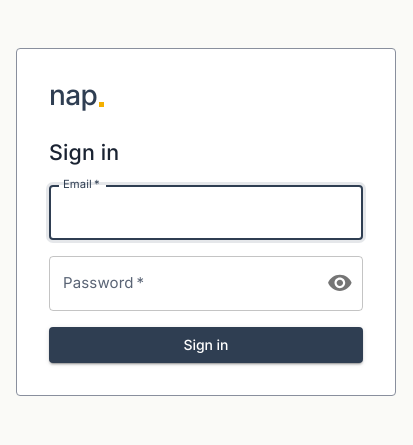
LoginPage › shows one generic message for a rejected login
Expected: the heading "Sign in" is shown, [49,139,119,165]
In the field labelled "Email *": [206, 213] box [49,185,363,240], type "wrong@example.com"
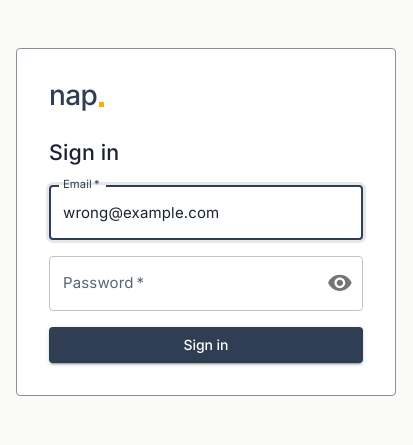
In the password field labelled "Password *": [180, 283] box [49,256,311,311], type "wrong-password"
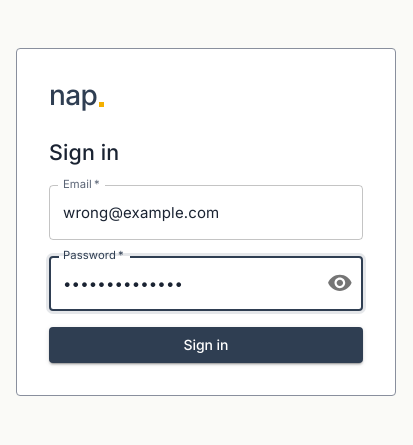
Click the button "Sign in": [206, 345] box [49,327,363,363]
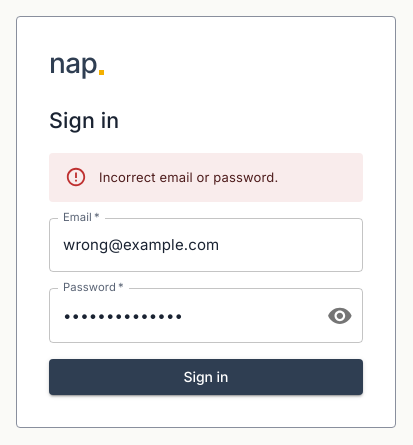
Result: the text "Incorrect email or password." is shown at [99,169,278,185]
